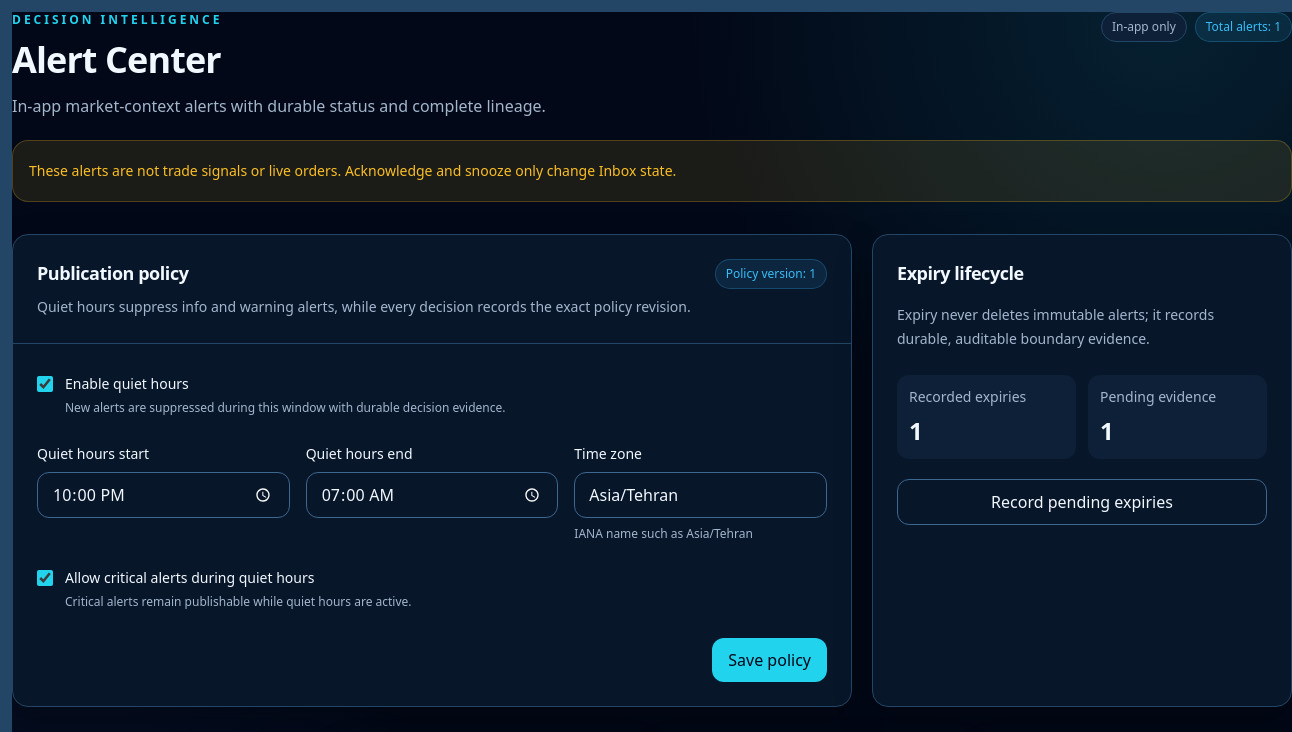
Test case: AlertCenter › materializes pending expiry evidence and refreshes its summary
The image size is (1292, 732).
Click the button "Record pending expiries" at (1082, 502), box [897,479,1267,525]
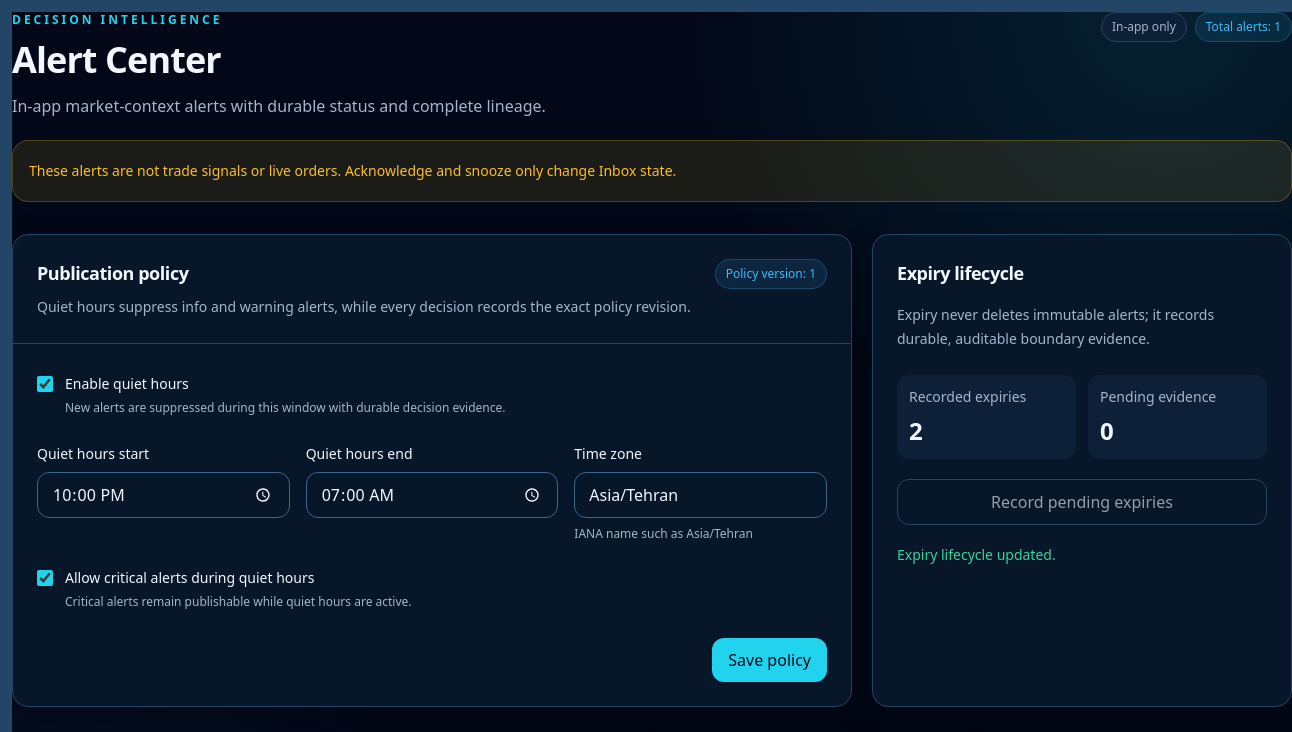
expect the text "Expiry lifecycle updated." is shown: met, box [897,545,1056,564]
expect the button "Record pending expiries" is disabled: met, box [897,479,1267,525]
